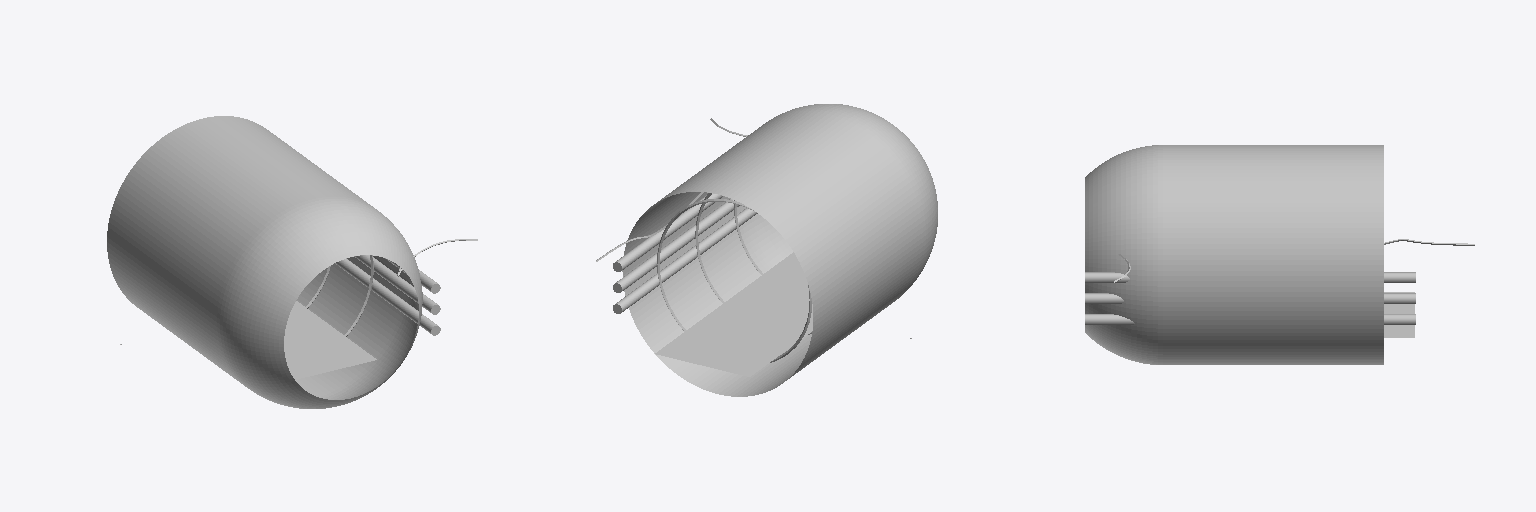
File: cockpit.obj
3 views of the same model, side by side, from view 1: azimuth 30°, elevation 25°; view 2: azimuth 150°, elevation 25°; view 3: azimuth 270°, elevation 25° (orthographic).
Parts seen in each view (by area): view 1: Cylinder, Sphere.001, Plane, Cylinder.001_Cylinder.004, Cylinder.003_Cylinder.005; view 2: Cylinder, Plane, Sphere.001, Cylinder.001_Cylinder.004, Cylinder.003_Cylinder.005, Cylinder.002_Cylinder.003, BezierCircle.002; view 3: Cylinder, Sphere.001, Cylinder.001_Cylinder.004, Cylinder.002_Cylinder.003, Plane, Cylinder.003_Cylinder.005.
Boxes of the visible parts, x1=… form: Cylinder: x1=107, y1=116, x2=407, y2=396; Sphere.001: x1=217, y1=197, x2=422, y2=408; Plane: x1=284, y1=301, x2=376, y2=379; Cylinder.001_Cylinder.004: x1=335, y1=258, x2=440, y2=335; Cylinder.003_Cylinder.005: x1=354, y1=255, x2=440, y2=314; Cylinder: x1=622, y1=111, x2=923, y2=396; Plane: x1=655, y1=252, x2=812, y2=376; Sphere.001: x1=737, y1=104, x2=937, y2=298; Cylinder.001_Cylinder.004: x1=613, y1=208, x2=757, y2=313; Cylinder.003_Cylinder.005: x1=613, y1=199, x2=739, y2=292; Cylinder.002_Cylinder.003: x1=613, y1=193, x2=722, y2=271; BezierCircle.002: x1=657, y1=199, x2=811, y2=362; Cylinder: x1=1163, y1=145, x2=1383, y2=364; Sphere.001: x1=1085, y1=145, x2=1162, y2=364; Cylinder.001_Cylinder.004: x1=1085, y1=314, x2=1415, y2=324; Cylinder.002_Cylinder.003: x1=1085, y1=272, x2=1415, y2=282; Plane: x1=1384, y1=292, x2=1414, y2=337; Cylinder.003_Cylinder.005: x1=1085, y1=293, x2=1415, y2=303.
Size of the model in its own units: 2.93 by 2 by 3.53.